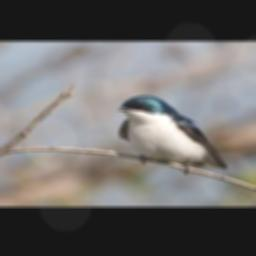Swallow: (118, 94, 229, 175)
